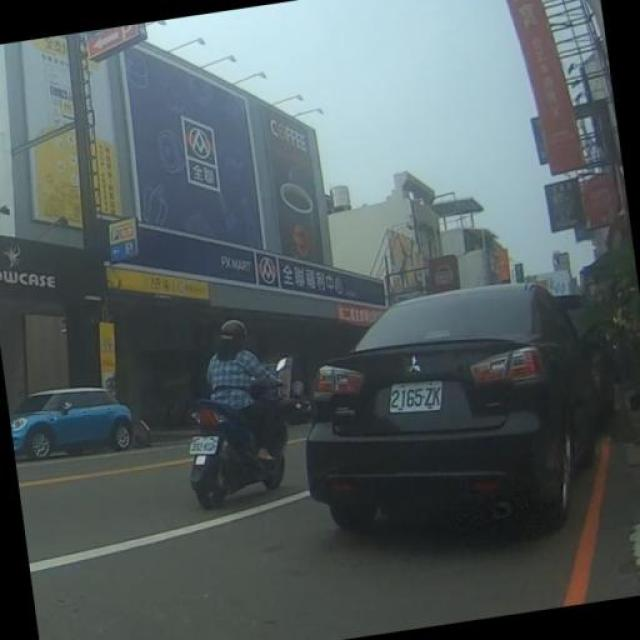Legalparking: (272, 249, 614, 557)
